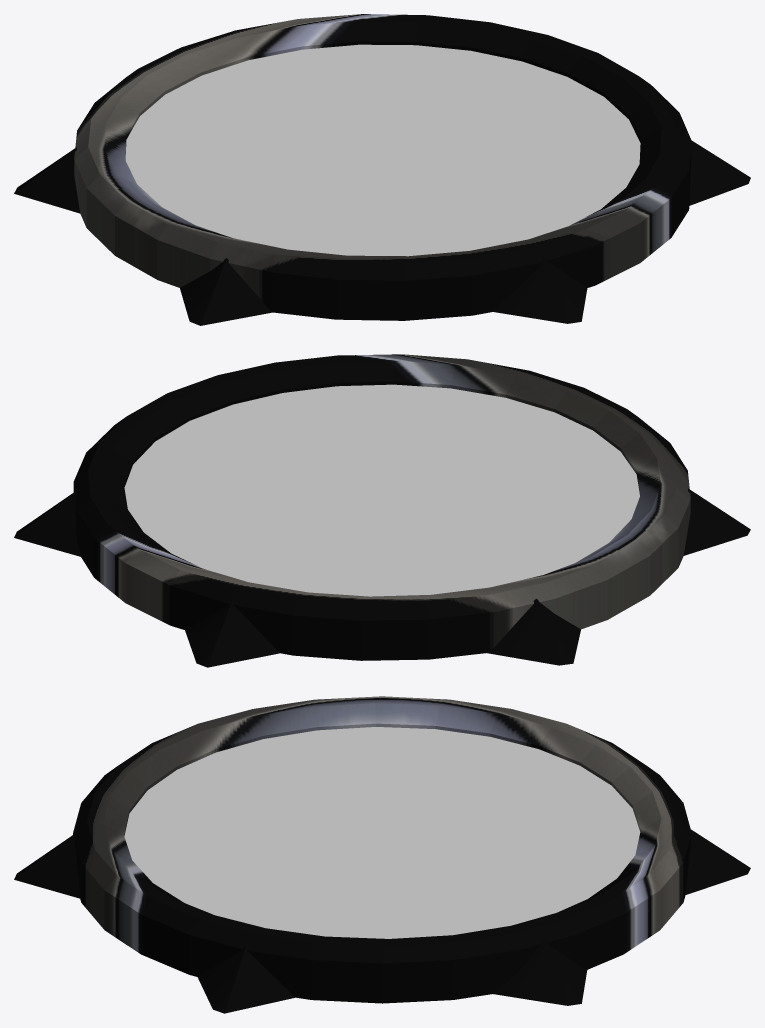
File: unit_border_01.FBX
3 renders of one model, top to bottom at view 1: azimuth 30°, elevation 25°; view 2: azimuth 150°, elevation 25°; view 3: azimuth 270°, elevation 25°, orthographic.
Visible parts, largest first — view 1: Circle003, Circle002; view 2: Circle003, Circle002; view 3: Circle003, Circle002.
Part boxes in pixels (x1,y1,x2,y2): Circle003: (125, 44, 640, 256); Circle002: (14, 14, 750, 325); Circle003: (124, 384, 639, 596); Circle002: (14, 354, 750, 667); Circle003: (124, 727, 640, 938); Circle002: (14, 696, 750, 1013).
Bounding box in the file's own units: 245 × 21.27 × 275.
